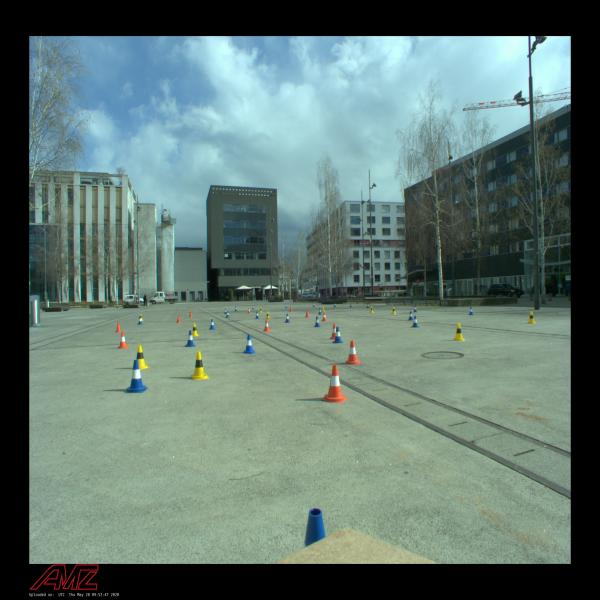blue_cone: (125, 360, 148, 393), (243, 334, 256, 354), (332, 326, 344, 344), (185, 330, 196, 347), (411, 316, 419, 328), (209, 318, 216, 330), (314, 316, 320, 327), (408, 311, 414, 320), (468, 306, 474, 315), (285, 313, 290, 323), (137, 316, 143, 324), (255, 311, 260, 319), (225, 311, 230, 318), (318, 308, 322, 315), (414, 305, 418, 312), (234, 306, 238, 312), (224, 308, 228, 314), (252, 305, 255, 309), (285, 304, 288, 308), (350, 303, 352, 308), (313, 303, 315, 307), (334, 303, 336, 307), (367, 304, 369, 308)
orange_cone: (322, 365, 348, 403), (344, 340, 361, 365), (117, 332, 129, 349), (330, 324, 338, 339), (263, 320, 271, 332), (116, 321, 122, 332), (322, 312, 328, 322), (176, 315, 182, 323), (305, 309, 310, 318), (189, 312, 193, 318), (289, 307, 293, 312), (248, 308, 251, 314)
yellow_cone: (189, 351, 209, 380), (130, 344, 150, 370), (454, 323, 464, 341), (190, 323, 199, 337), (527, 311, 536, 324), (265, 312, 270, 320), (139, 314, 144, 321), (369, 306, 374, 313), (392, 306, 396, 314), (188, 310, 193, 316), (259, 306, 263, 312), (322, 307, 326, 313)
